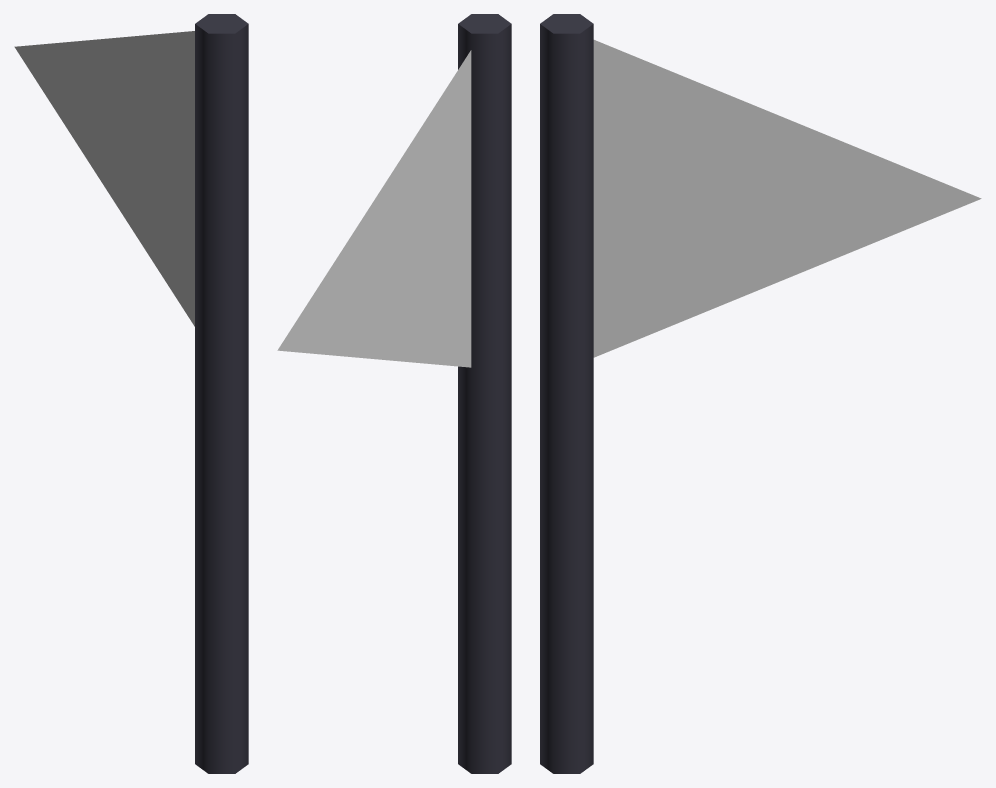
The model's file is Flag.fbx.
3 views of the same model, side by side, from view 1: azimuth 30°, elevation 25°; view 2: azimuth 150°, elevation 25°; view 3: azimuth 270°, elevation 25° (orthographic).
Visible parts, largest first — view 1: Cylinder, Plane.003; view 2: Cylinder, Plane.003; view 3: Plane.003, Cylinder.
Boxes of the visible parts, box(x1,y1,x2,y2) form: Cylinder: box(195, 14, 248, 773); Plane.003: box(14, 31, 194, 326); Cylinder: box(458, 14, 511, 773); Plane.003: box(277, 50, 471, 367); Plane.003: box(593, 40, 981, 357); Cylinder: box(540, 14, 593, 773).
Size of the model in its own units: 0.2601 by 4.58 by 2.48.
